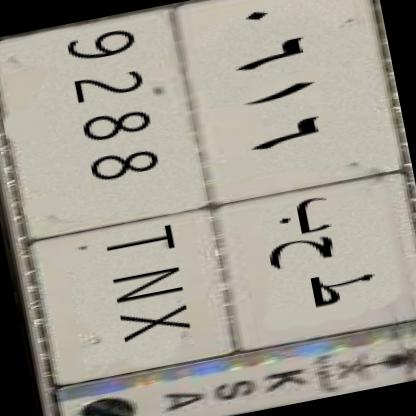english: (0, 3, 249, 392)
